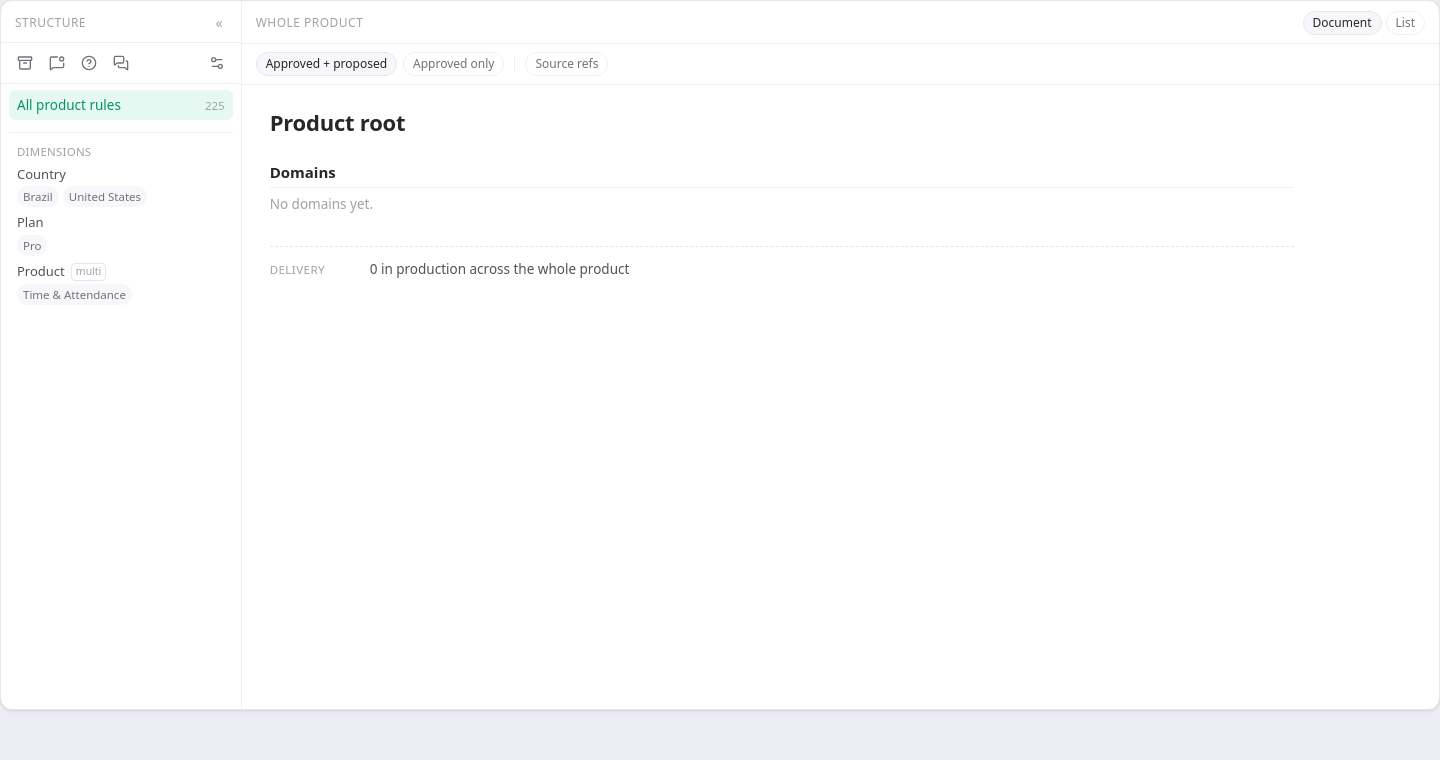
Test case: previews every selected kind through the context read, not a browser-side filter
The image size is (1440, 760).
Click the button "List" at point(1405, 23), box [1386,11,1425,35]
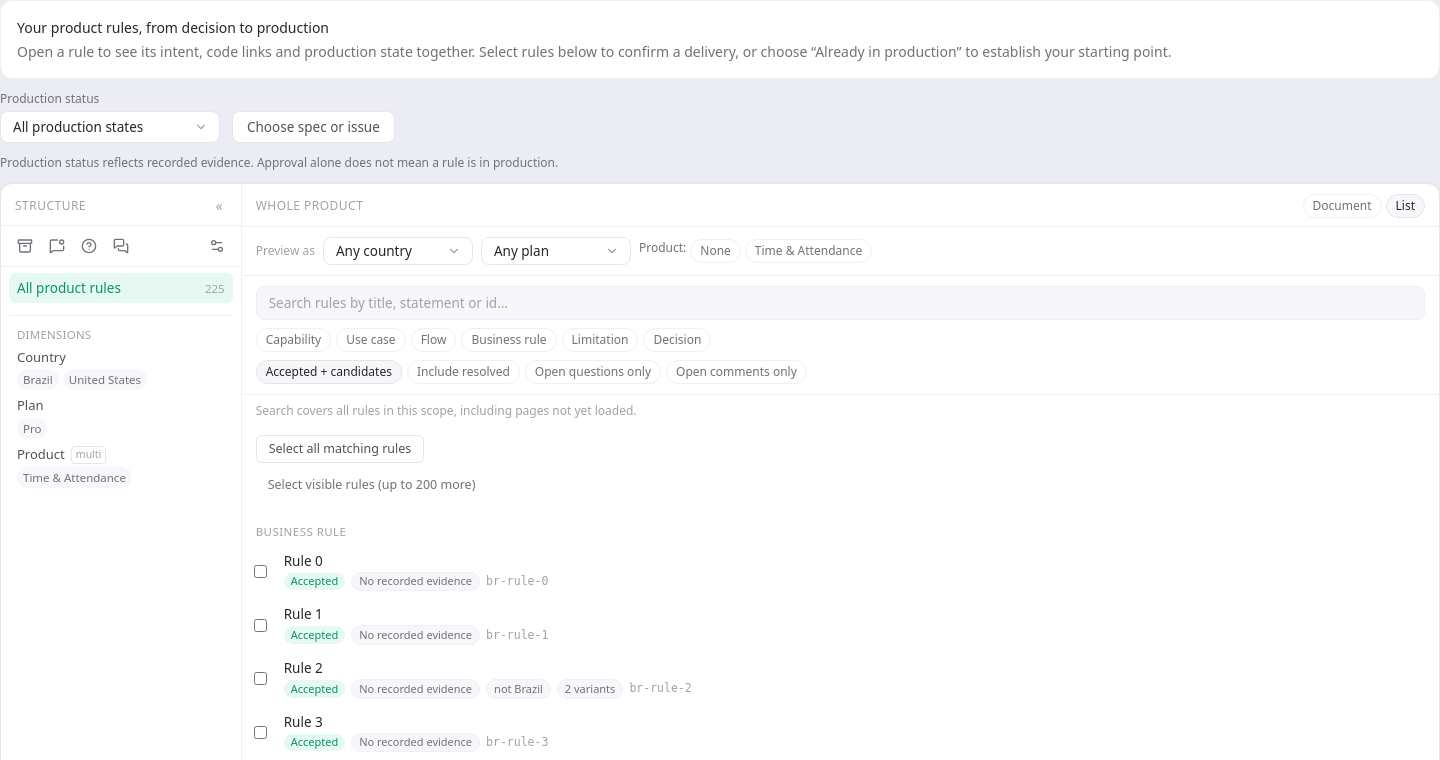
Result: the checkbox named "Select Rule 0 for delivery" is shown at [254,565,267,578]
Click the button "Use case" at point(371, 340), box [336,328,406,352]
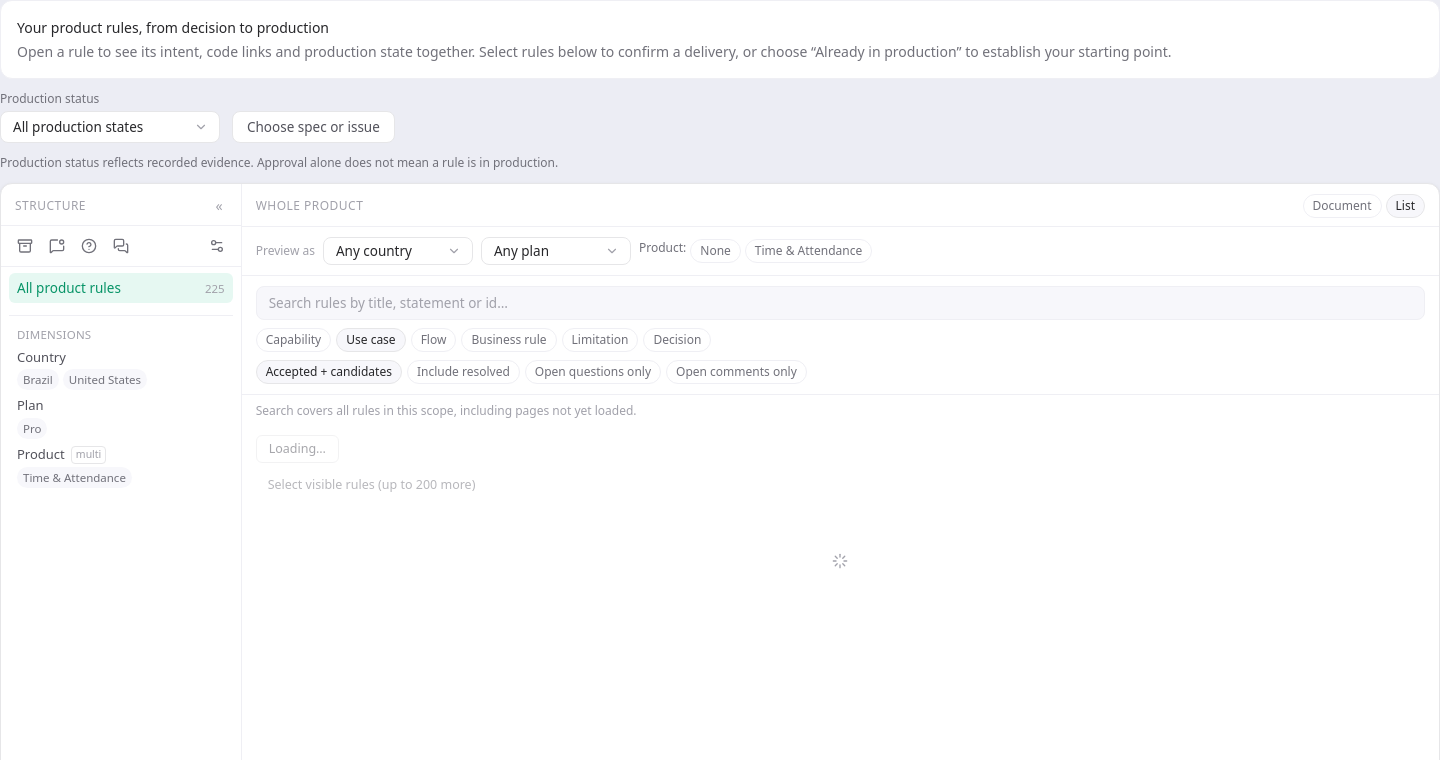
Click the button "Business rule" at point(509, 340), box [461,328,556,352]
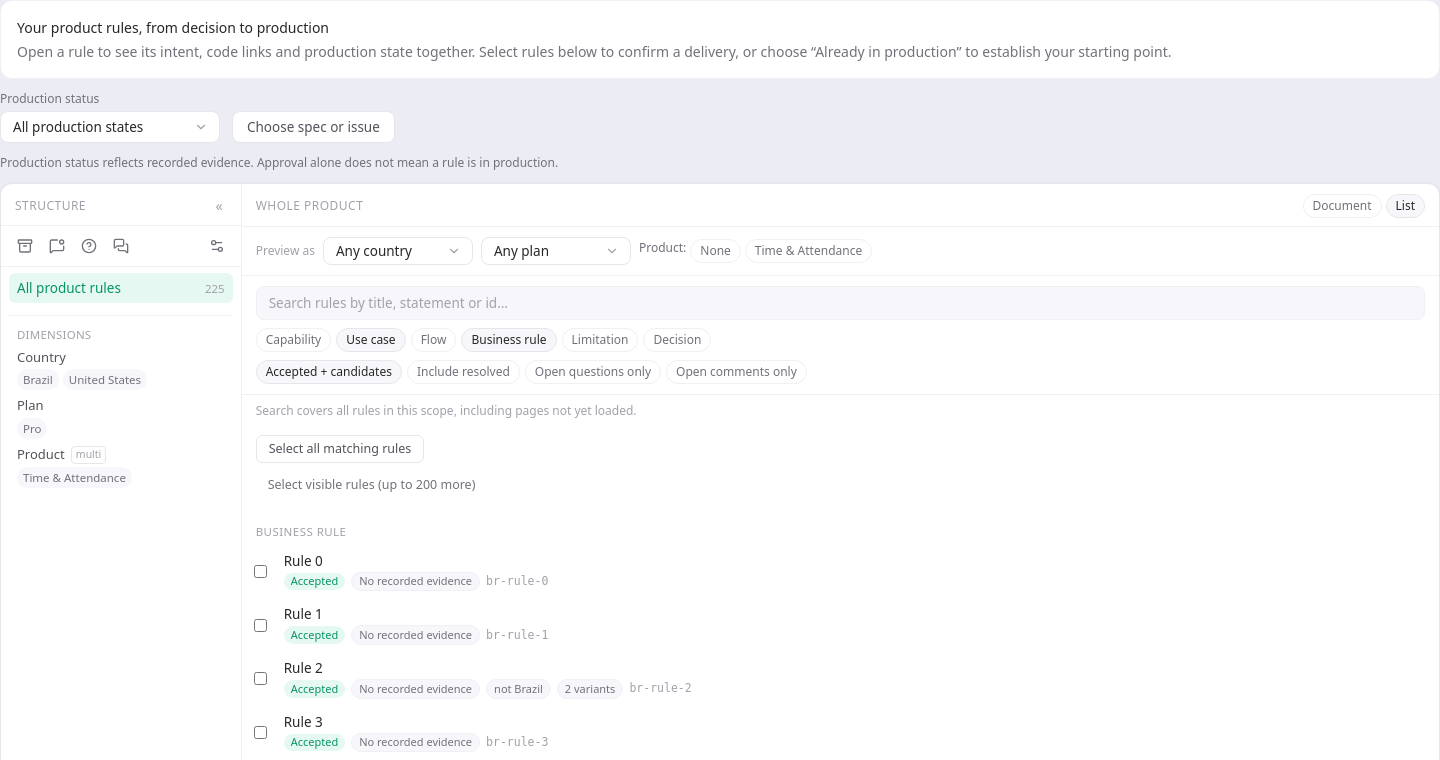
Select "Brazil" in the dropdown named "Country" at point(398, 251), box [323,237,473,265]
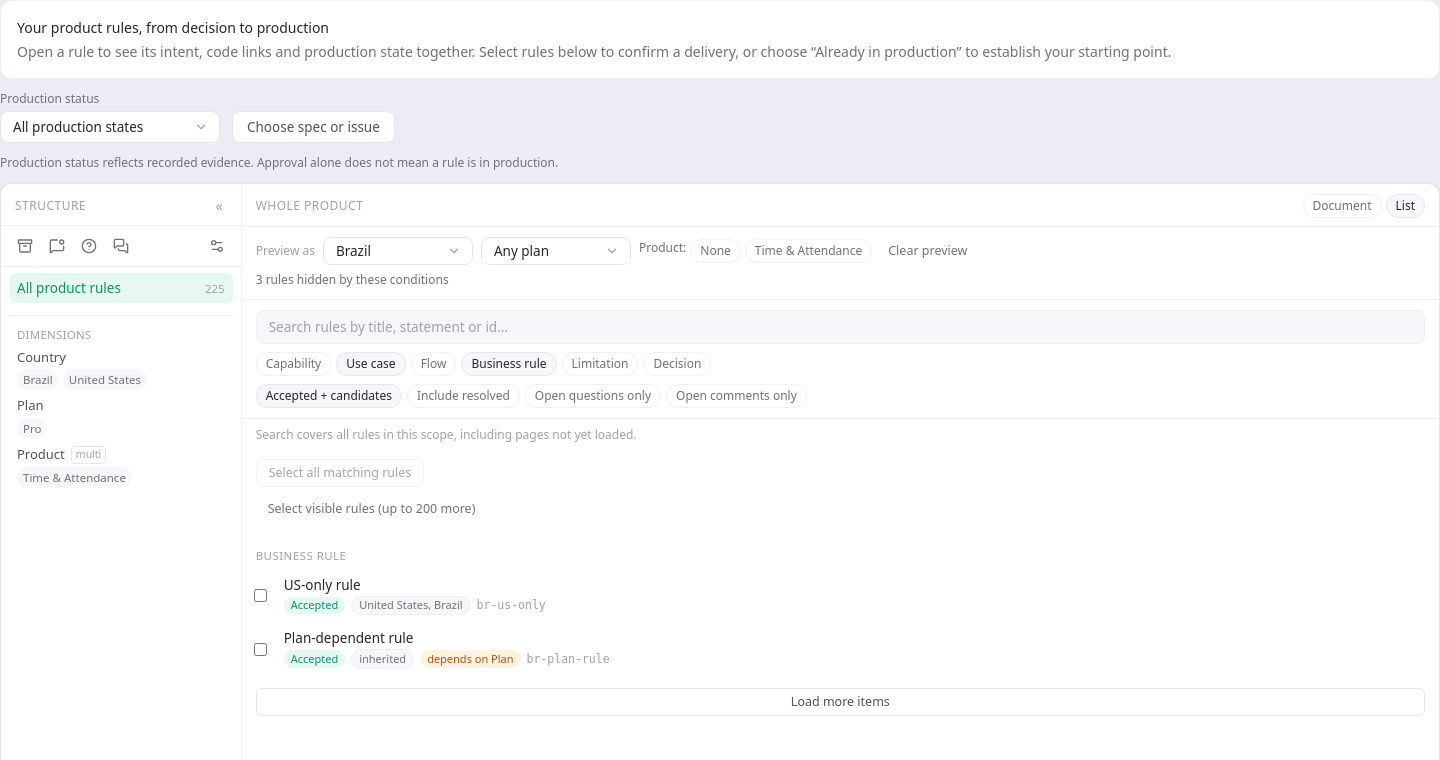
Result: the text "US-only rule" is shown at [284,576,361,594]
